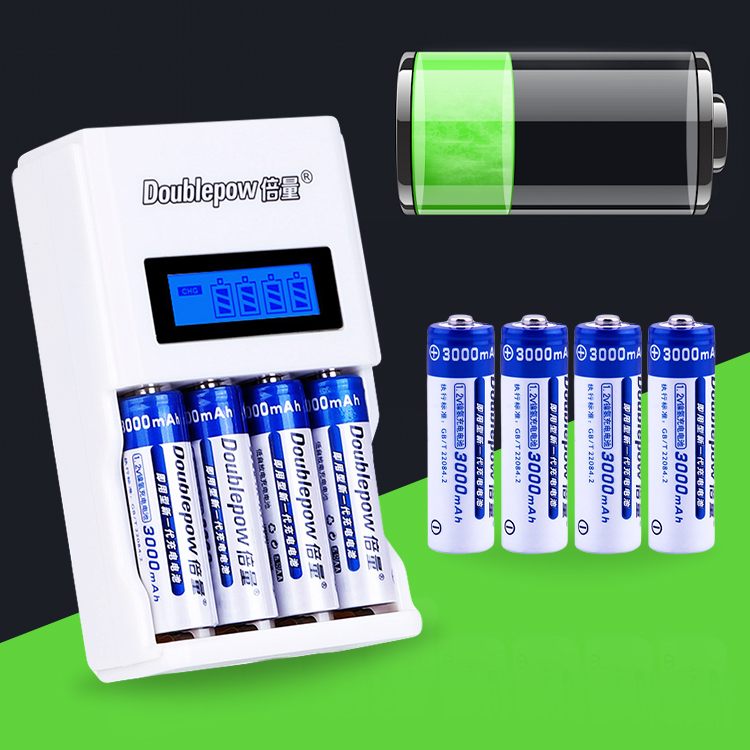Battery: (116, 385, 220, 633), (242, 373, 339, 619), (185, 377, 281, 624), (306, 369, 398, 611), (498, 310, 571, 557), (570, 311, 644, 554), (646, 308, 717, 558), (423, 313, 496, 556)
